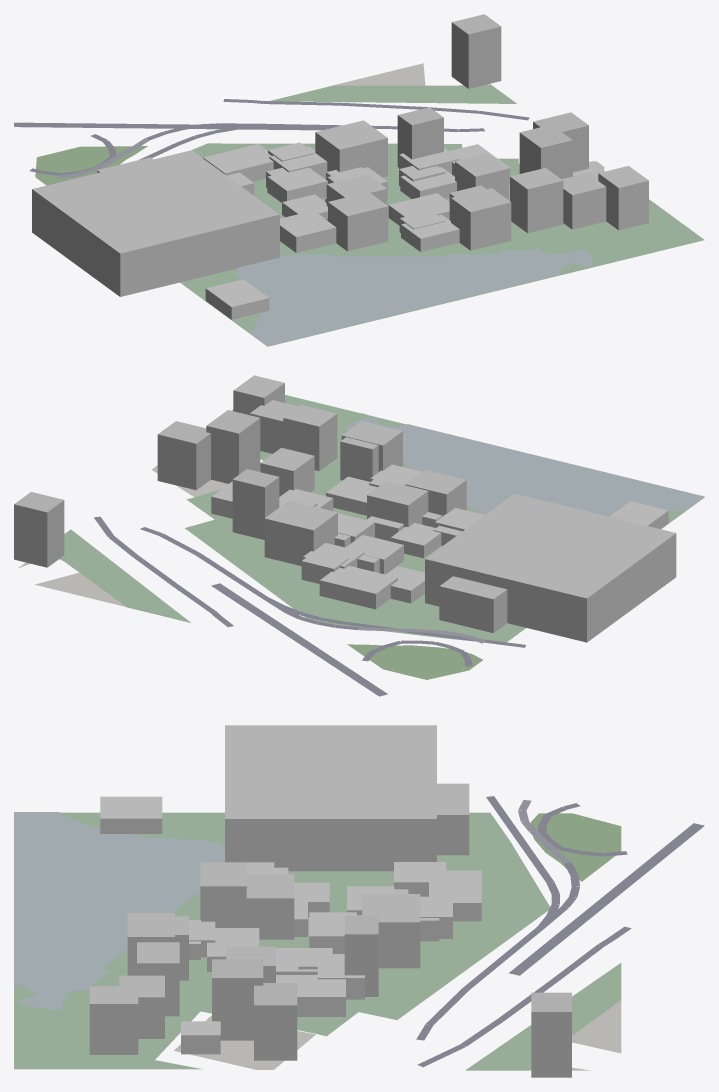
File: 111_112_mid.glb
3 renders of one model, top to bottom at view 1: azimuth 30°, elevation 25°; view 2: azimuth 150°, elevation 25°; view 3: azimuth 270°, elevation 25°, orthographic. The views are drawn at different scales.
Size of the model in its own units: 581 by 59.5 by 569.
